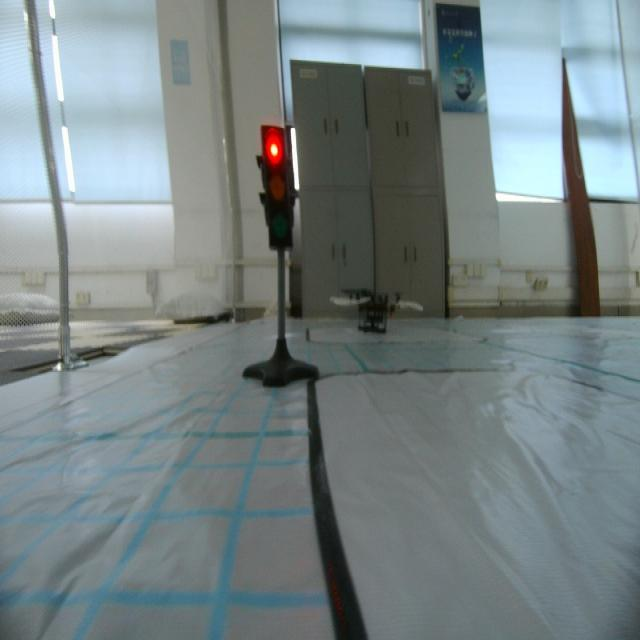red: (254, 120, 298, 253)
